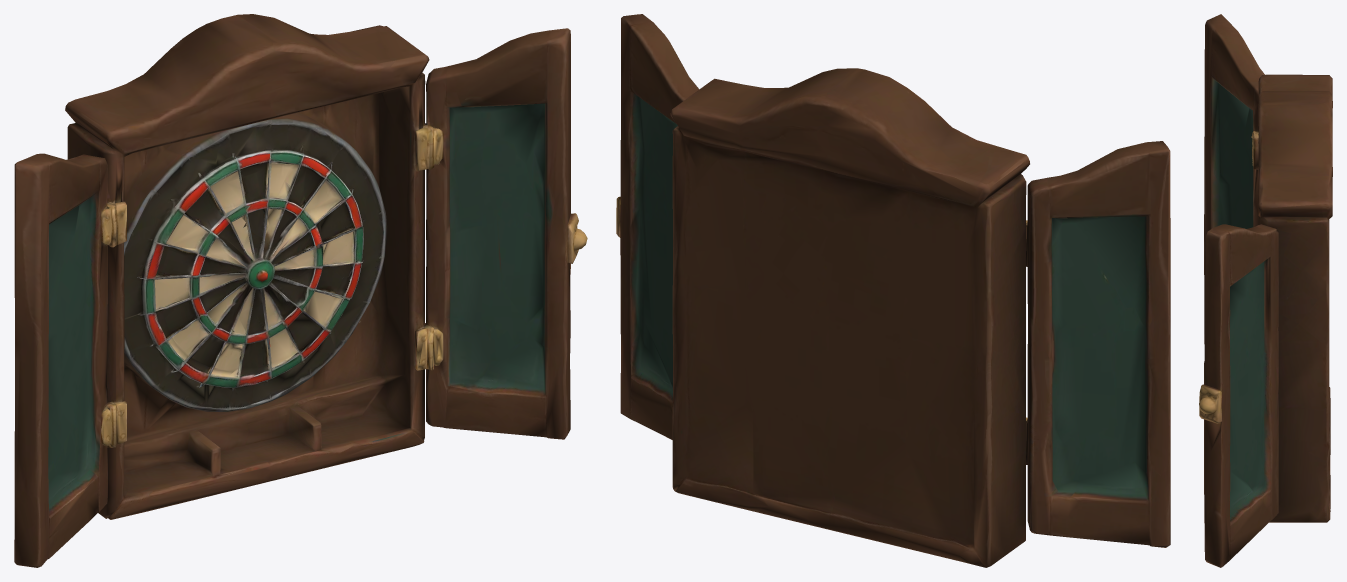
The model's file is cabinet.glb.
3 views of the same model, side by side, from view 1: azimuth 30°, elevation 25°; view 2: azimuth 150°, elevation 25°; view 3: azimuth 270°, elevation 25° (orthographic). The views are drawn at different scales.
Parts seen in each view (by area): view 1: tripo_node_29d0b1bc-3067-4ce1-8db0-f2c29547380f; view 2: tripo_node_29d0b1bc-3067-4ce1-8db0-f2c29547380f; view 3: tripo_node_29d0b1bc-3067-4ce1-8db0-f2c29547380f.
Part boxes in pixels (x1,y1,x2,y2): tripo_node_29d0b1bc-3067-4ce1-8db0-f2c29547380f: (14, 14, 587, 567); tripo_node_29d0b1bc-3067-4ce1-8db0-f2c29547380f: (616, 14, 1170, 567); tripo_node_29d0b1bc-3067-4ce1-8db0-f2c29547380f: (1199, 14, 1332, 567).
Size of the model in its own units: 0.9797 by 0.7241 by 0.2444.
1 material, 1 textured.
